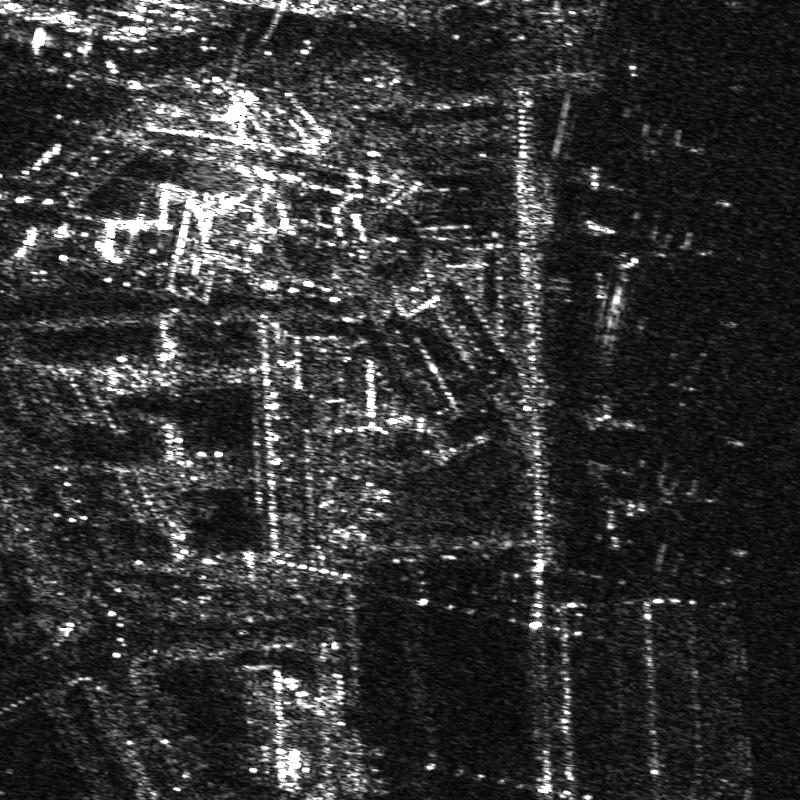A220: (621, 223, 719, 288), (628, 465, 721, 531)
